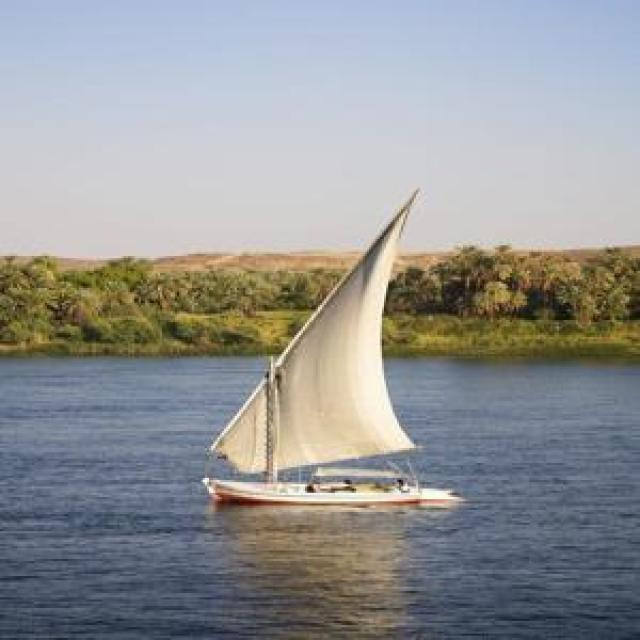sailboat: (200, 184, 465, 510)
